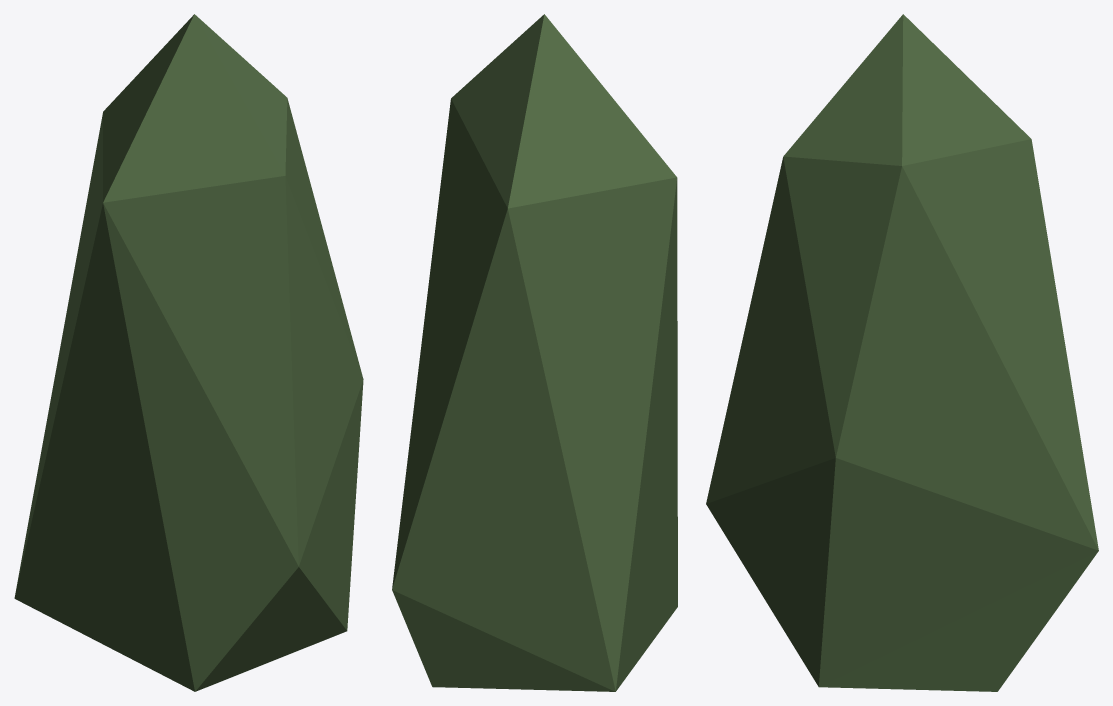
File: Corn_1.lod4.glb
3 views of the same model, side by side, from view 1: azimuth 30°, elevation 25°; view 2: azimuth 150°, elevation 25°; view 3: azimuth 270°, elevation 25° (orthographic).
Visible parts, largest first — view 1: Corn_1; view 2: Corn_1; view 3: Corn_1.
Part boxes in pixels (x1,y1,x2,y2): Corn_1: [14, 14, 363, 691]; Corn_1: [392, 14, 677, 691]; Corn_1: [706, 14, 1098, 691].
Size of the model in its own units: 0.841 by 1.98 by 1.09.
